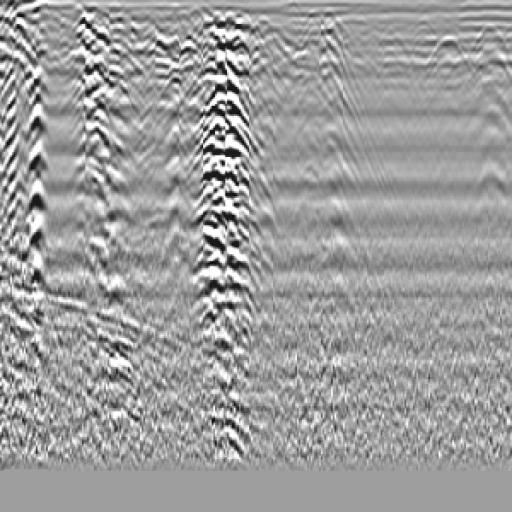metalic: (180, 20, 271, 187)
